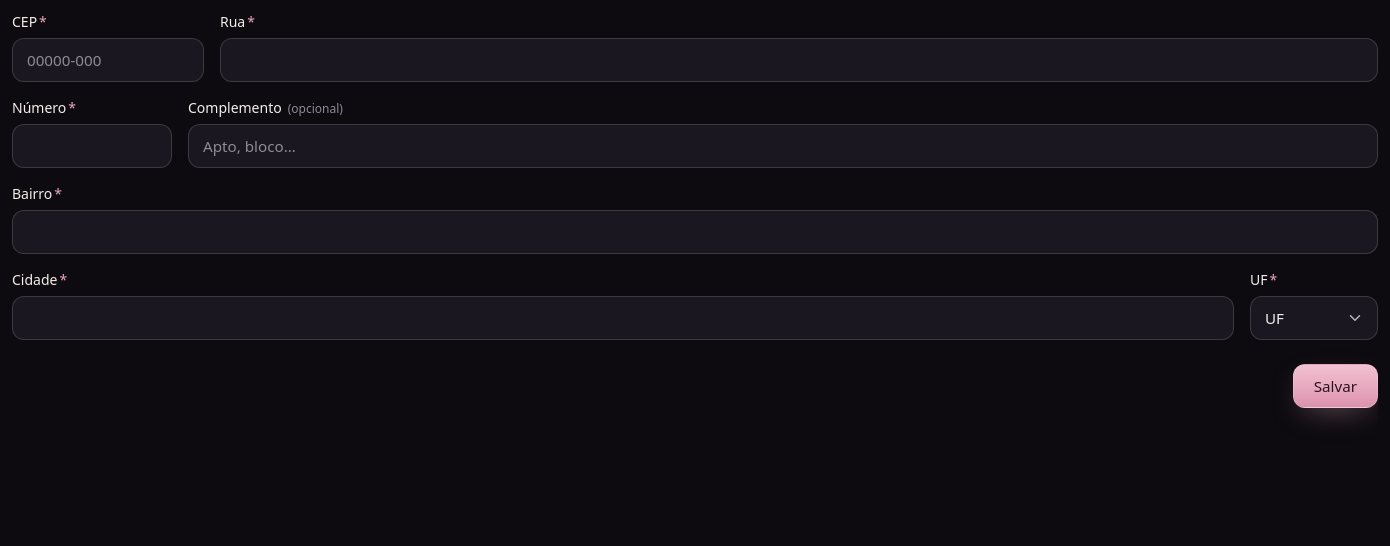
Test case: AddressForm › valida campos obrigatórios
Click the button "Salvar": [1335, 386] box [1293,364,1378,408]
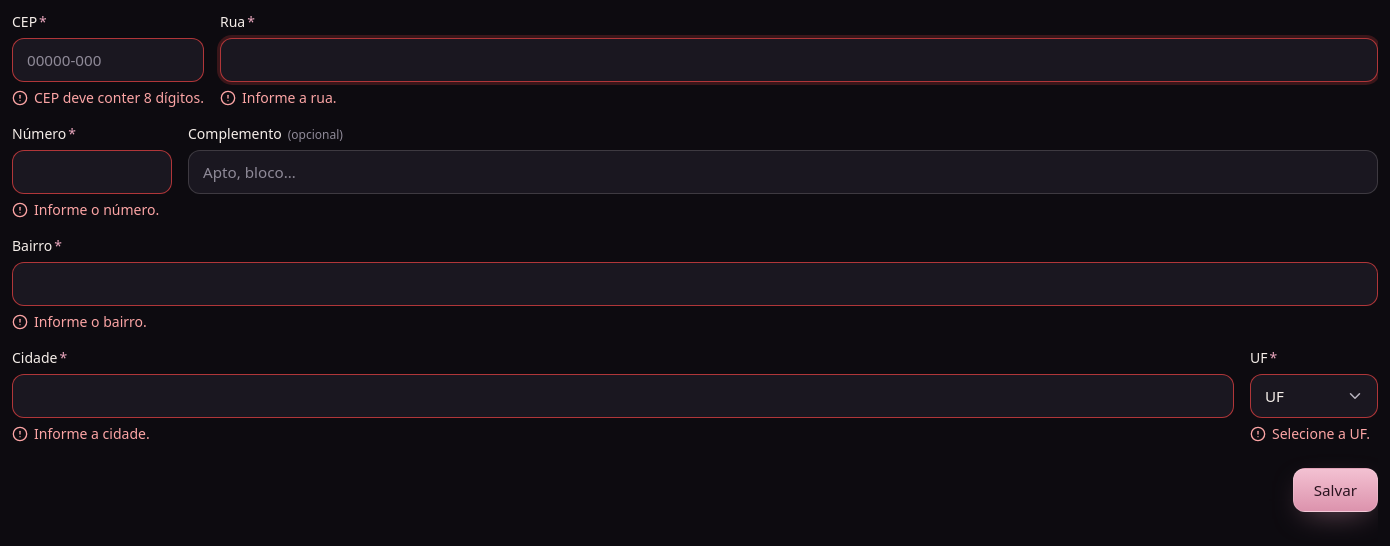
Now the text "CEP deve conter 8 dígitos." is shown, box [34,88,204,108]
Now the text "Informe a rua." is shown, box [242,88,337,108]
Now the text "Selecione a UF." is shown, box [1272,424,1370,444]
